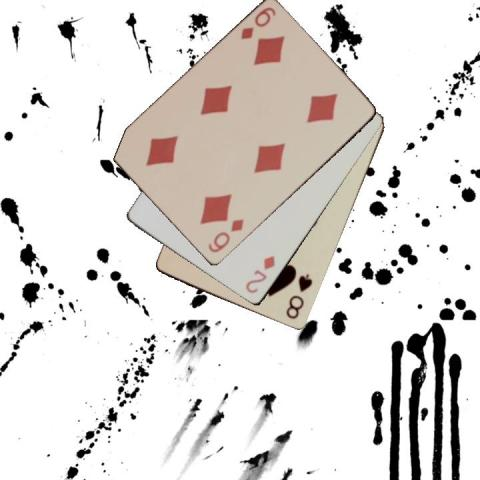2d: (243, 254, 276, 296)
6d: (205, 216, 246, 255), (238, 4, 278, 41)
8s: (283, 271, 314, 321)
